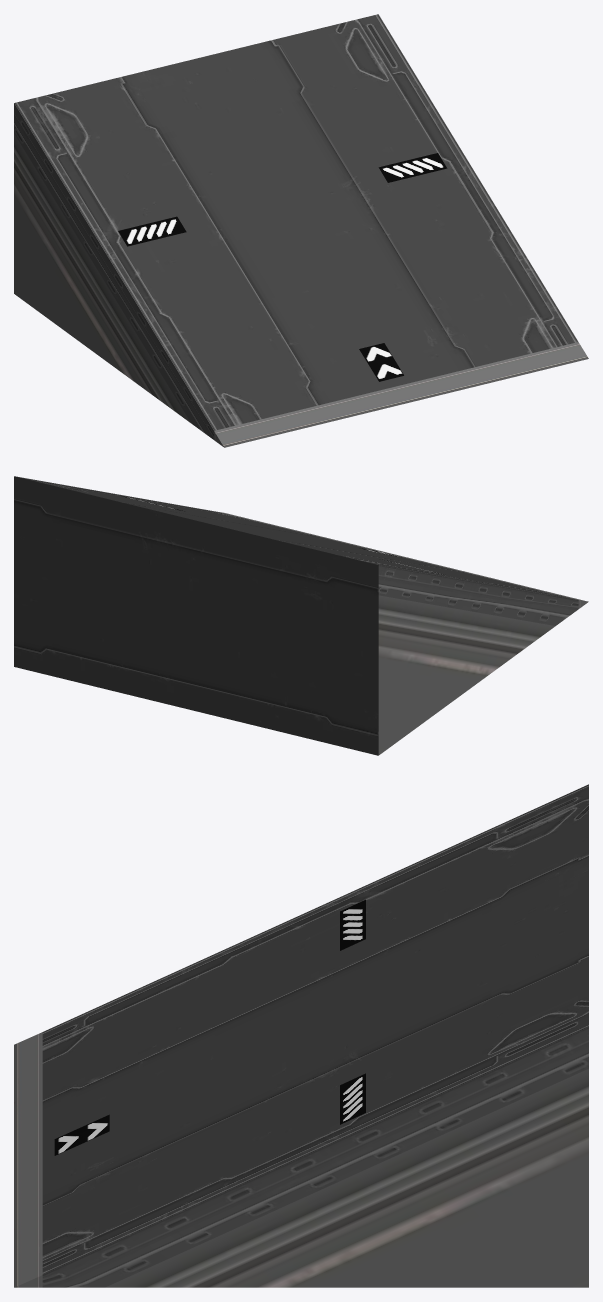
File: Platform_Ramp_2.glb
The picture shows the model from 3 angles, top to bottom: view 1: azimuth 30°, elevation 25°; view 2: azimuth 150°, elevation 25°; view 3: azimuth 270°, elevation 25°; orthographic projection. The views are drawn at different scales.
Parts seen in each view (by area): view 1: Platform_Ramp_2; view 2: Platform_Ramp_2; view 3: Platform_Ramp_2.
Boxes of the visible parts, x1,y1,x2,y2 form: Platform_Ramp_2: [14, 14, 588, 447]; Platform_Ramp_2: [14, 476, 588, 755]; Platform_Ramp_2: [14, 784, 588, 1287].
Size of the model in its own units: 2 by 0.9999 by 2.
Materials: 3 (3 with a texture image).
